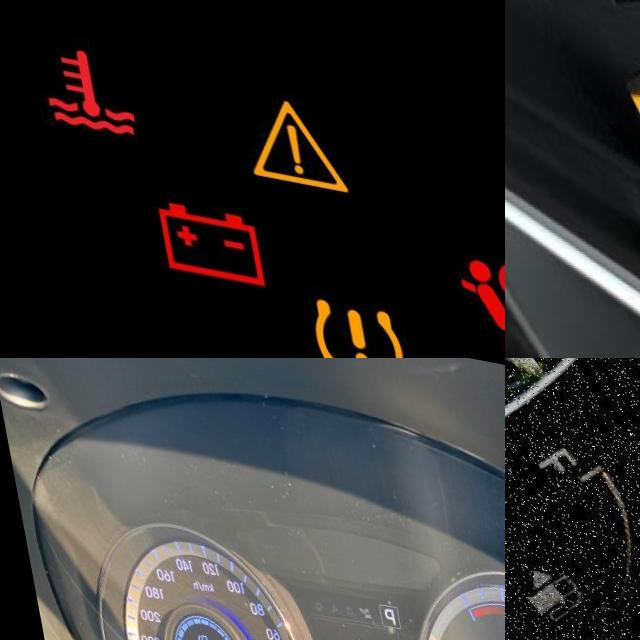High Engine Coolant Temperature: (18, 16, 153, 152)
